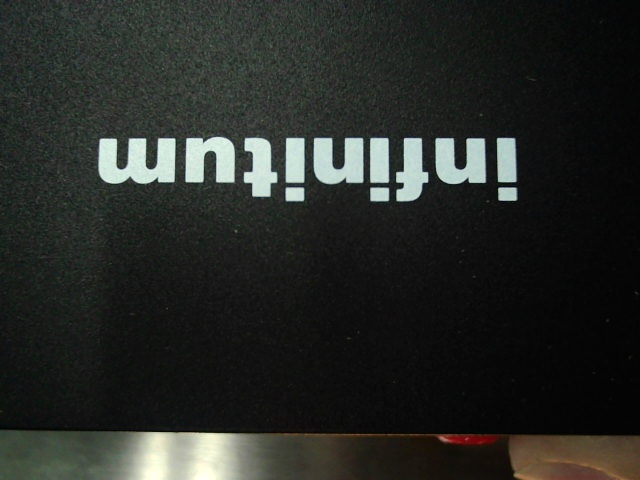BK_infinitum: (79, 108, 534, 210)
